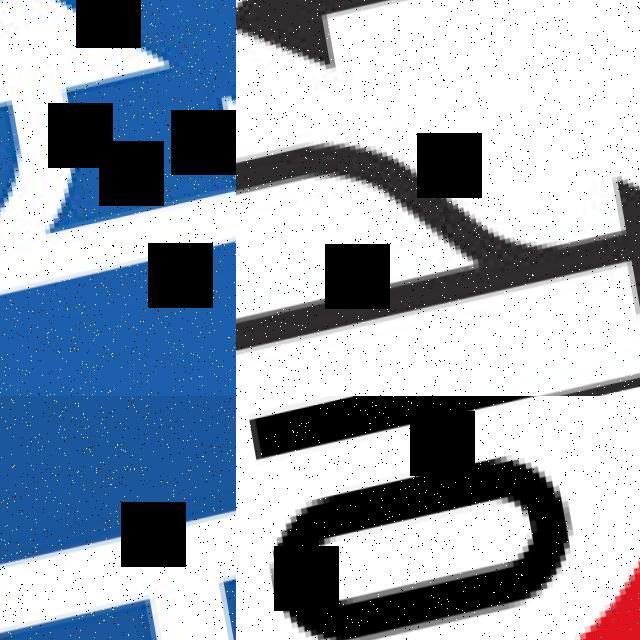71: (236, 0, 640, 396)
87: (0, 396, 236, 640)
Direction to be followed: (0, 0, 236, 396)
speed limit-110: (236, 396, 640, 640)
